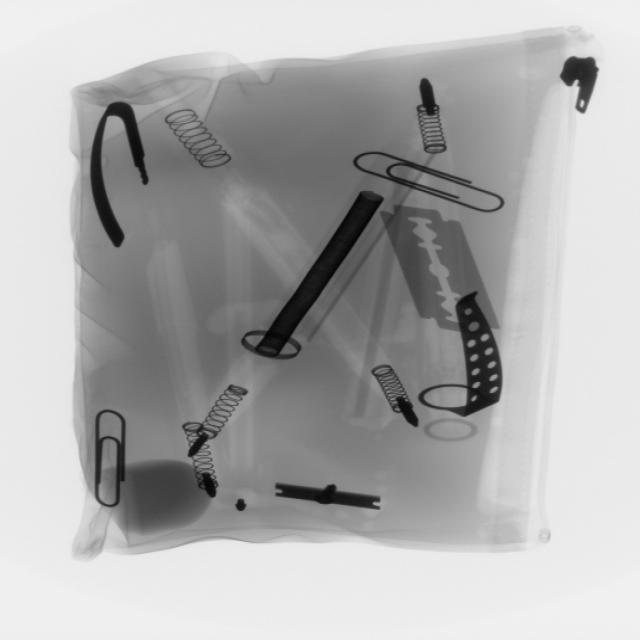BLADE: (379, 193, 495, 342)
